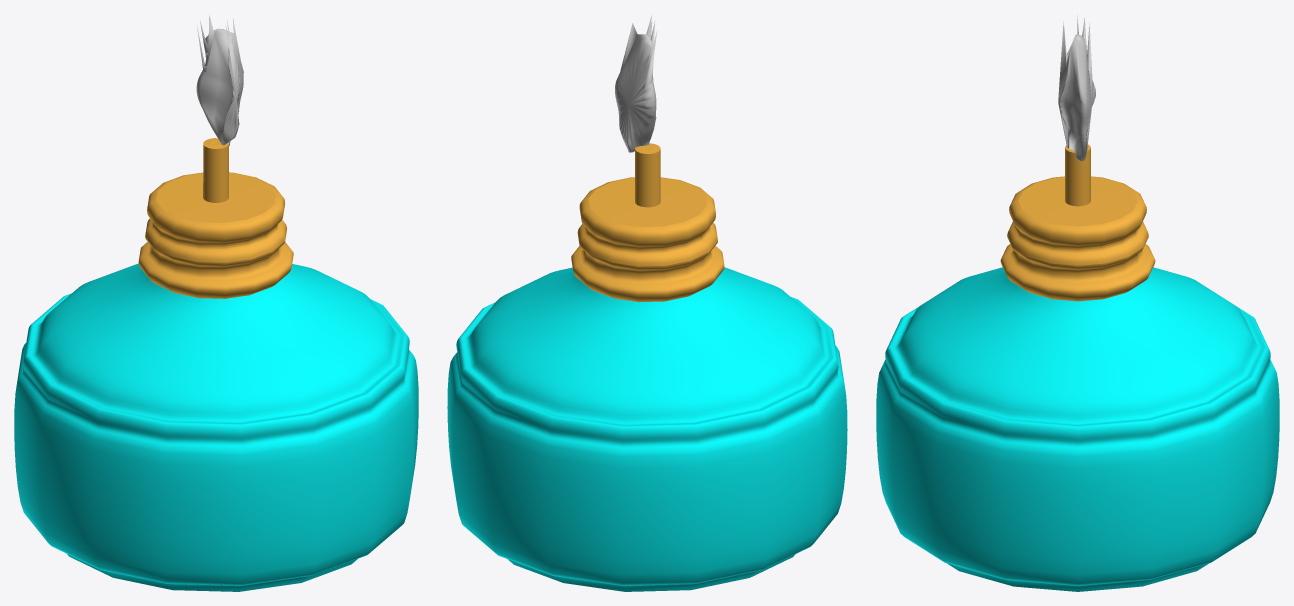
Rendered from lampa.dae.
The picture shows the model from 3 angles, left to right: view 1: azimuth 30°, elevation 25°; view 2: azimuth 150°, elevation 25°; view 3: azimuth 270°, elevation 25°; orthographic projection.
Visible parts, largest first — view 1: Line001, Line002, Line003; view 2: Line001, Line002, Line003; view 3: Line001, Line002, Line003.
Part boxes in pixels (<box>): Line001: <box>14,263,418,591</box>; Line002: <box>138,138,293,298</box>; Line003: <box>196,15,243,145</box>; Line001: <box>447,267,847,591</box>; Line002: <box>571,143,724,302</box>; Line003: <box>615,14,657,152</box>; Line001: <box>876,267,1279,591</box>; Line002: <box>1000,144,1155,301</box>; Line003: <box>1058,15,1095,160</box>.
Bounding box in the file's own units: 10.21 × 14.12 × 10.21.
